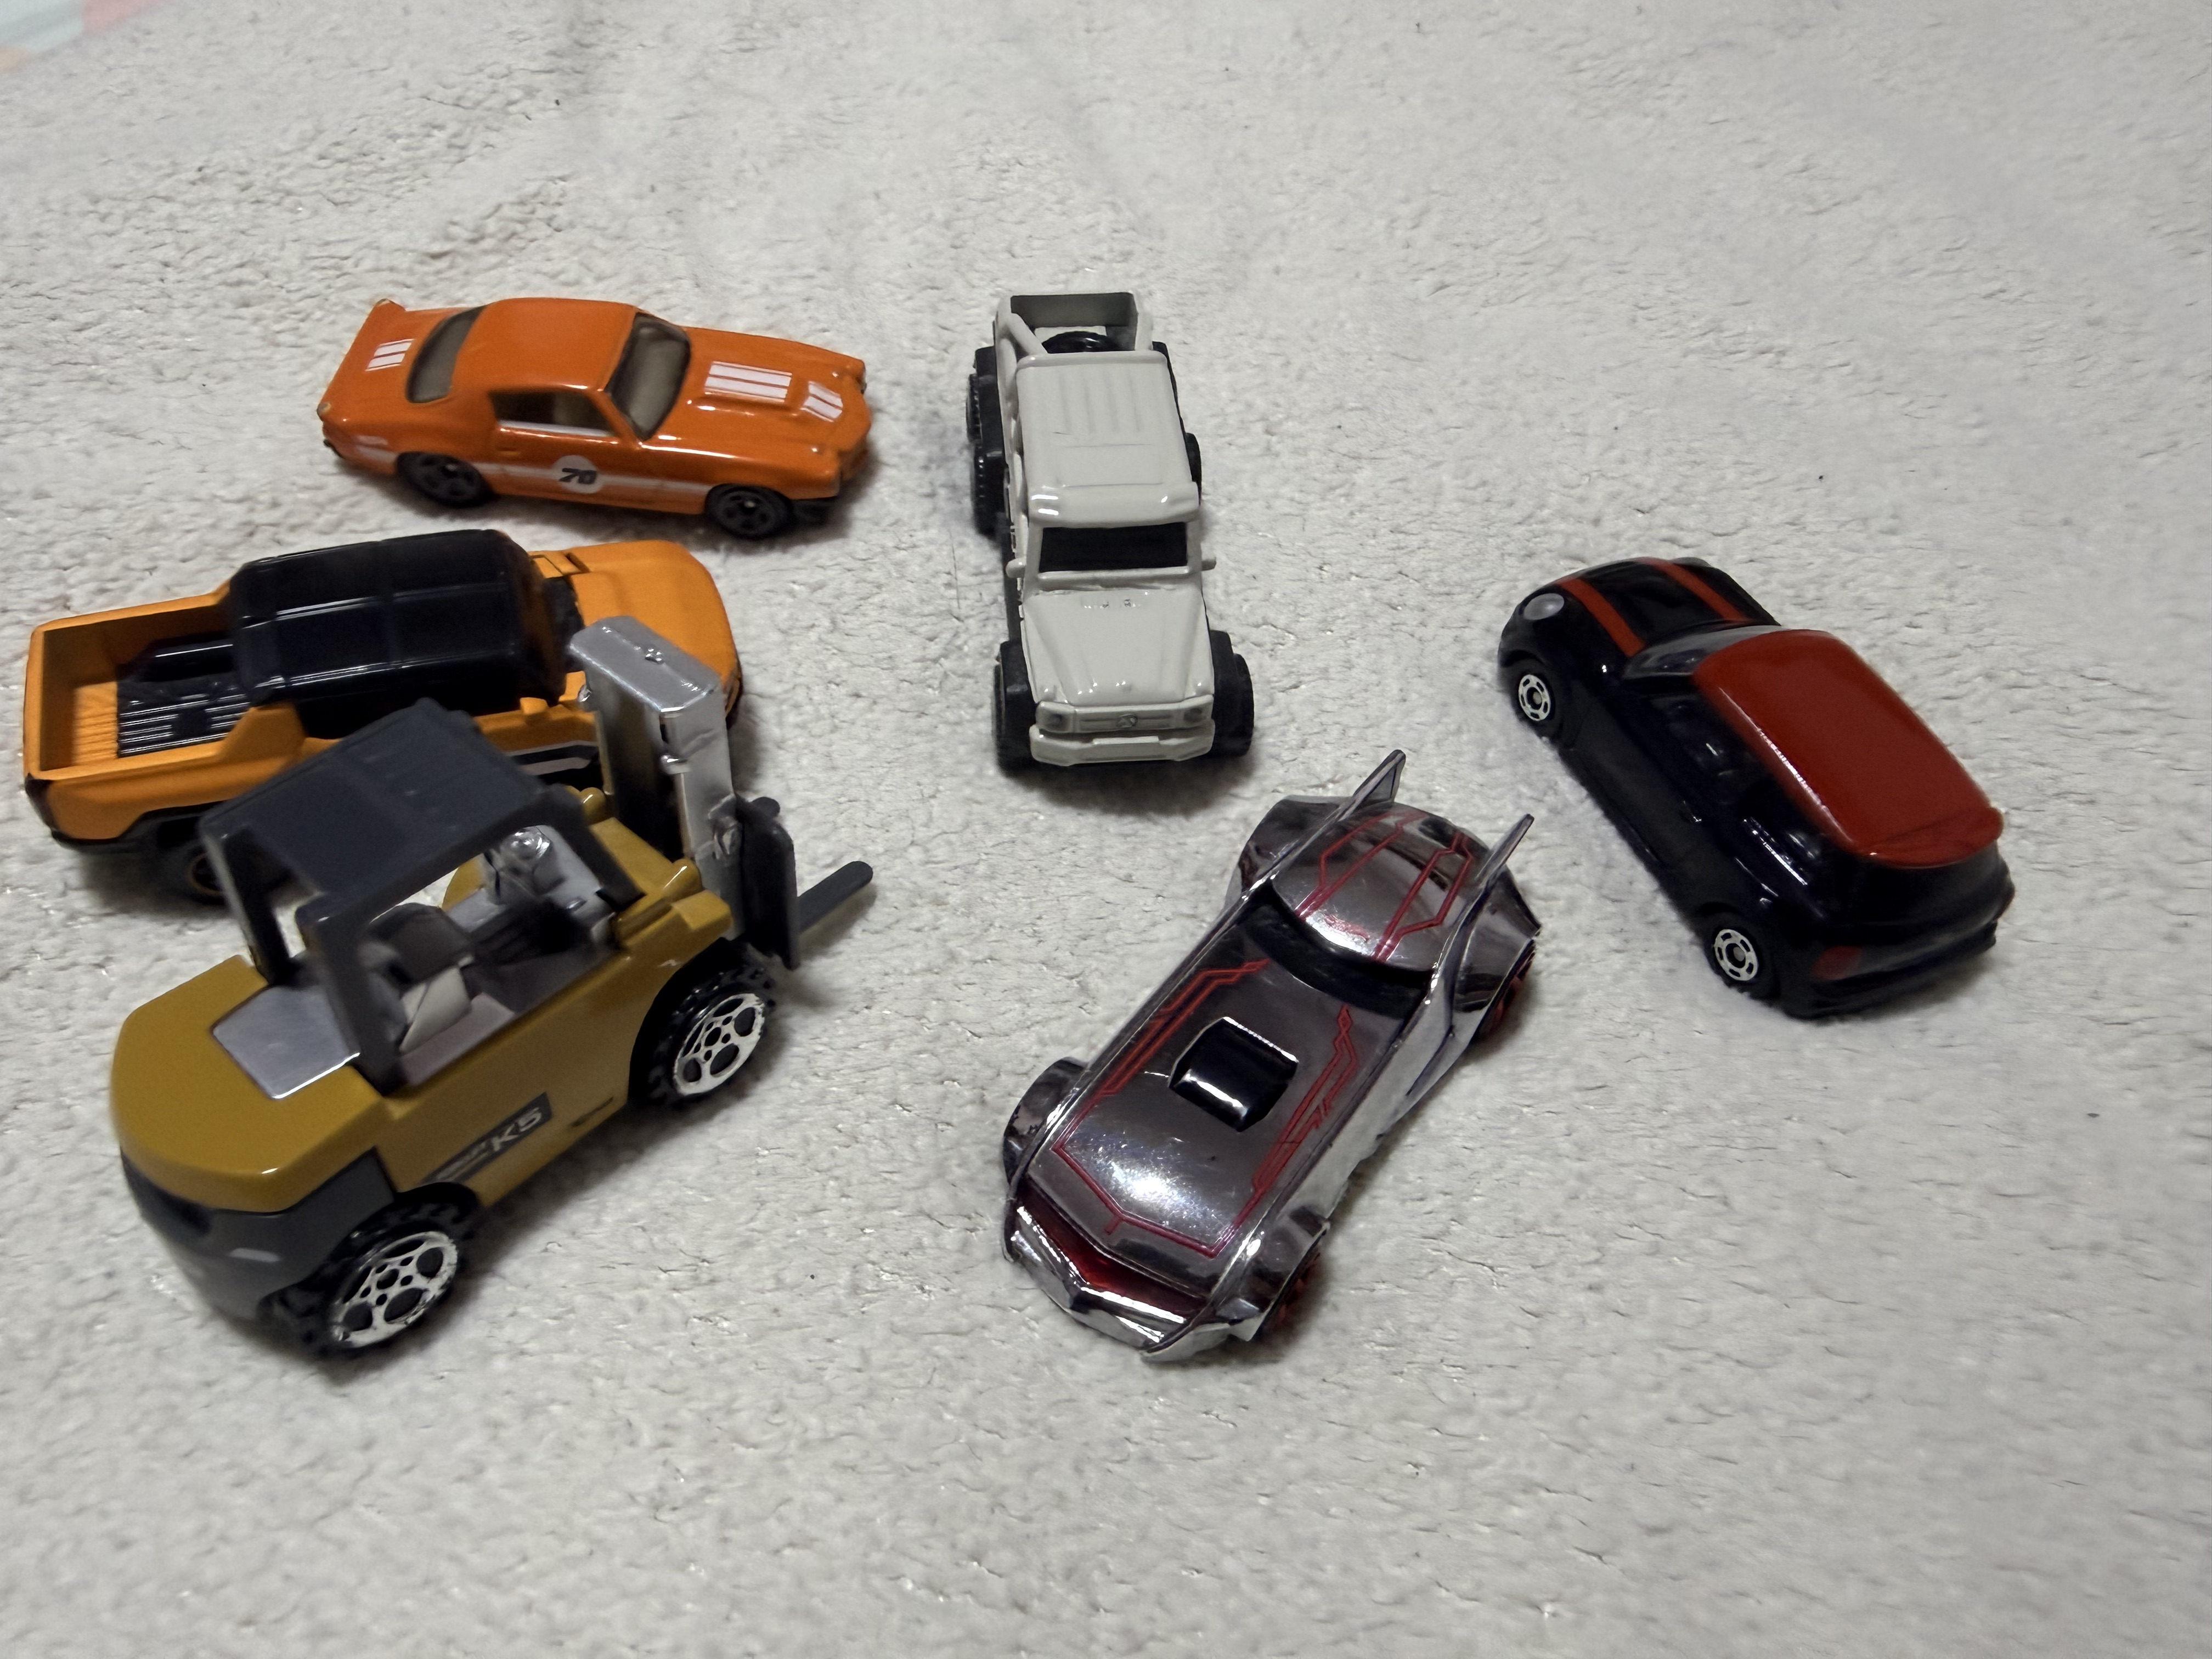camaro_rs: (319, 296, 876, 542)
dc_comics: (1001, 751, 1543, 1363)
forklift: (111, 613, 878, 1361)
gmc_hummer: (19, 526, 745, 899)
mercedes_benz: (967, 291, 1258, 782)
mini_cooper: (1498, 556, 2017, 1025)
